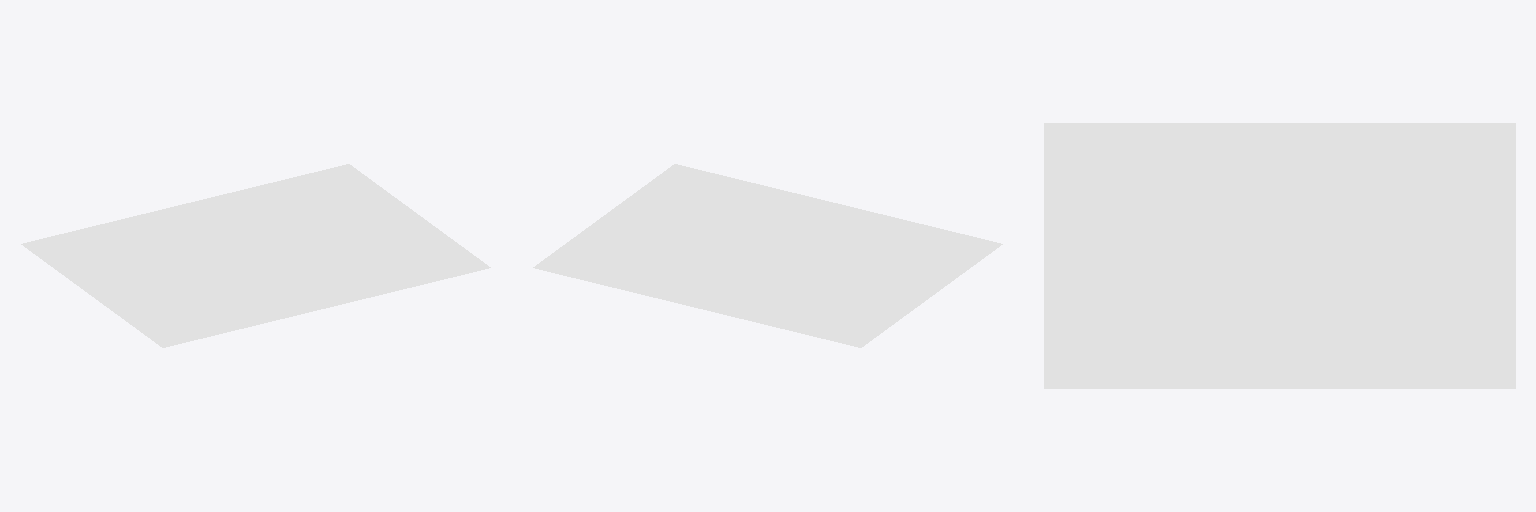
The robot description file, URDF, robot "plane":
<?xml version="1.0" ?>
<robot name="plane">
  <link name="planeLink">
  <contact>
      <lateral_friction value="1"/>
  </contact>
    <inertial>
      <origin rpy="0 0 0" xyz="0 0 0"/>
       <mass value=".0"/>
       <inertia ixx="0" ixy="0" ixz="0" iyy="0" iyz="0" izz="0"/>
    </inertial>
    <visual>
      <origin rpy="0 0 0" xyz="-1.25 1.75 0"/>
      <geometry>
				<mesh filename="map.obj" scale="1 1 1"/>
      </geometry>
       <material name="white">
        <color rgba="1 1 1 1"/>
      </material>
    </visual>
    <collision>
      <origin rpy="0 0 0" xyz="0 0 -5"/>
      <geometry>
	 	<box size="30 30 10"/>
      </geometry>
    </collision>
  </link>
</robot>

--- Facts derived from the render (not from the file) ---
The picture shows the robot from 3 angles, left to right: view 1: azimuth 30°, elevation 25°; view 2: azimuth 150°, elevation 25°; view 3: azimuth 270°, elevation 25°; orthographic projection.
Model plane with 1 links and 0 joints (none), rooted at planeLink, posed all joints at 0.
Links seen in each view (by area): view 1: planeLink; view 2: planeLink; view 3: planeLink.
Boxes of the visible links, box(x1,y1,x2,y2) form: planeLink: box(21, 164, 490, 347); planeLink: box(533, 164, 1002, 347); planeLink: box(1044, 123, 1515, 388).
Size in the robot's own frame: 13.33 by 10 by 0 metres.
1 mesh visuals loaded from 1 distinct referenced files (1 OBJ).
